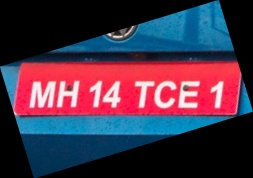character: (29, 79, 56, 107), (55, 80, 79, 108), (153, 80, 176, 107), (178, 80, 199, 107), (134, 80, 154, 107), (103, 80, 121, 108), (88, 79, 103, 108), (210, 80, 224, 109)
